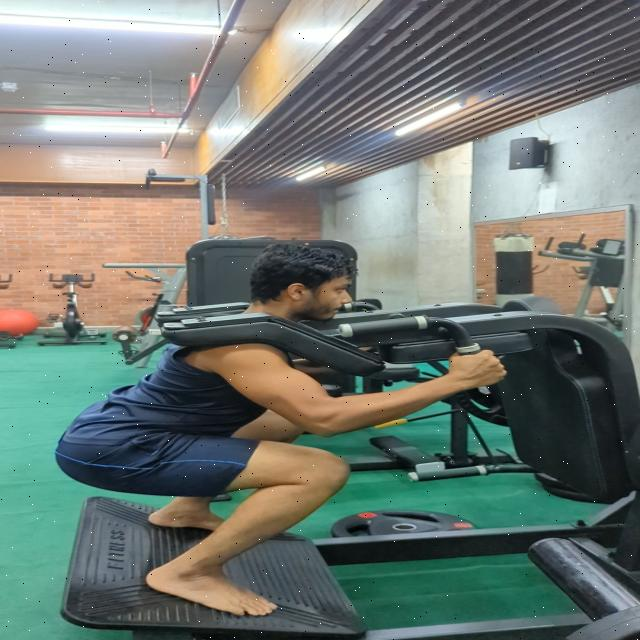Normal_SquatsWithBarbell: (37, 255, 640, 640)
